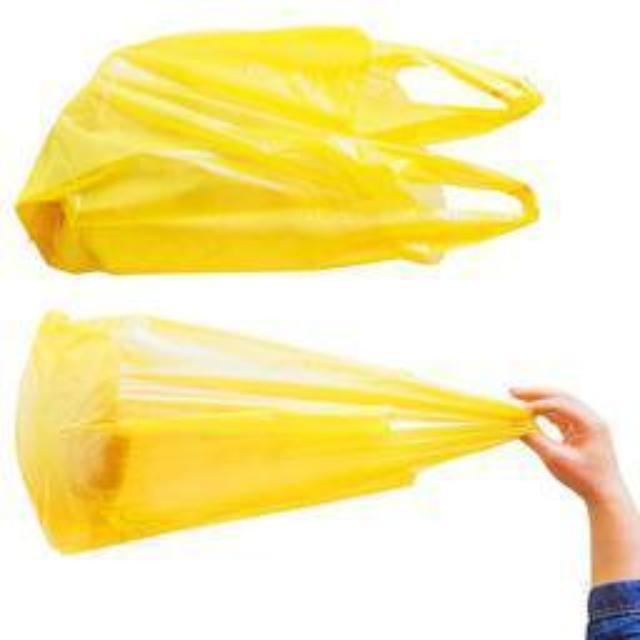Bolsa-de-nilon: (25, 18, 562, 277), (8, 307, 538, 568)
